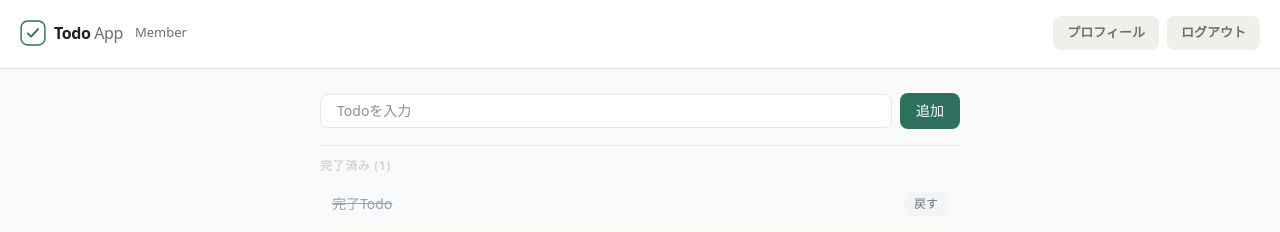
Scenario: TodoApp › 戻すボタンクリックでTodoが未完了セクションに移動する
The width and height of the screenshot is (1280, 232).
Step 1. Click the button "戻す" → click(926, 204), box [904,192,948,216]
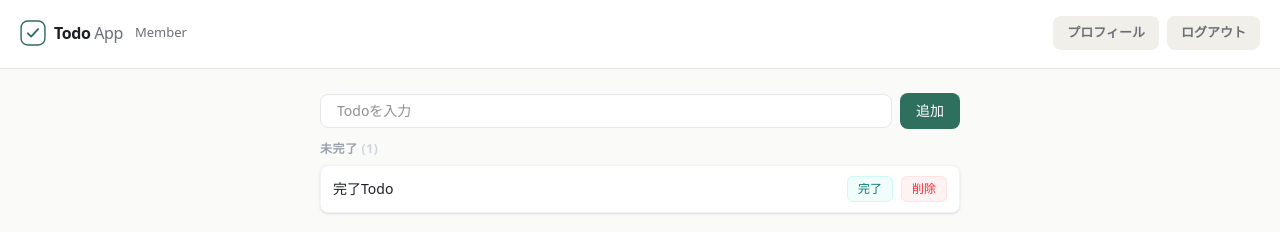
Expected: the button "完了" is shown, [847,176,893,202]
Expected: the button "戻す" is gone
